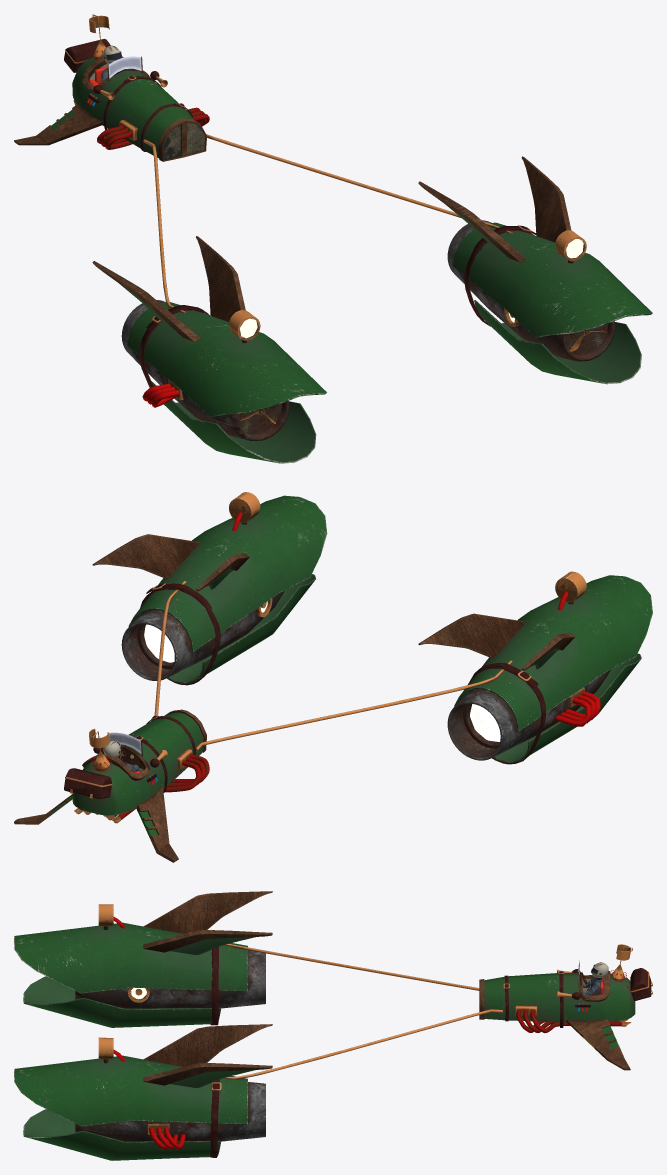
Rendered from verdigris-hero-v1.glb.
3 views of the same model, one above another, from view 1: azimuth 30°, elevation 25°; view 2: azimuth 150°, elevation 25°; view 3: azimuth 270°, elevation 25° (orthographic). The views are drawn at different scales.
Visible parts, largest first — view 1: verdigris-body-0, verdigris-body-1; view 2: verdigris-body-0, verdigris-body-1; view 3: verdigris-body-0, verdigris-body-1.
Boxes of the visible parts, x1,y1,x2,y2 form: verdigris-body-0: (92,134,652,463); verdigris-body-1: (14,14,209,161); verdigris-body-0: (92,492,652,764); verdigris-body-1: (14,709,209,862); verdigris-body-0: (14,891,503,1160); verdigris-body-1: (479,944,652,1070).
Bounding box in the file's own units: 12.01 × 4.42 × 17.76.
8 materials, 8 textured.
